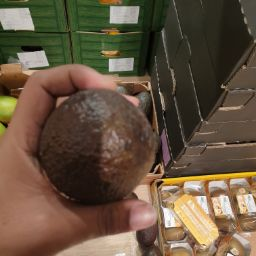Avocado: (40, 88, 160, 207)
